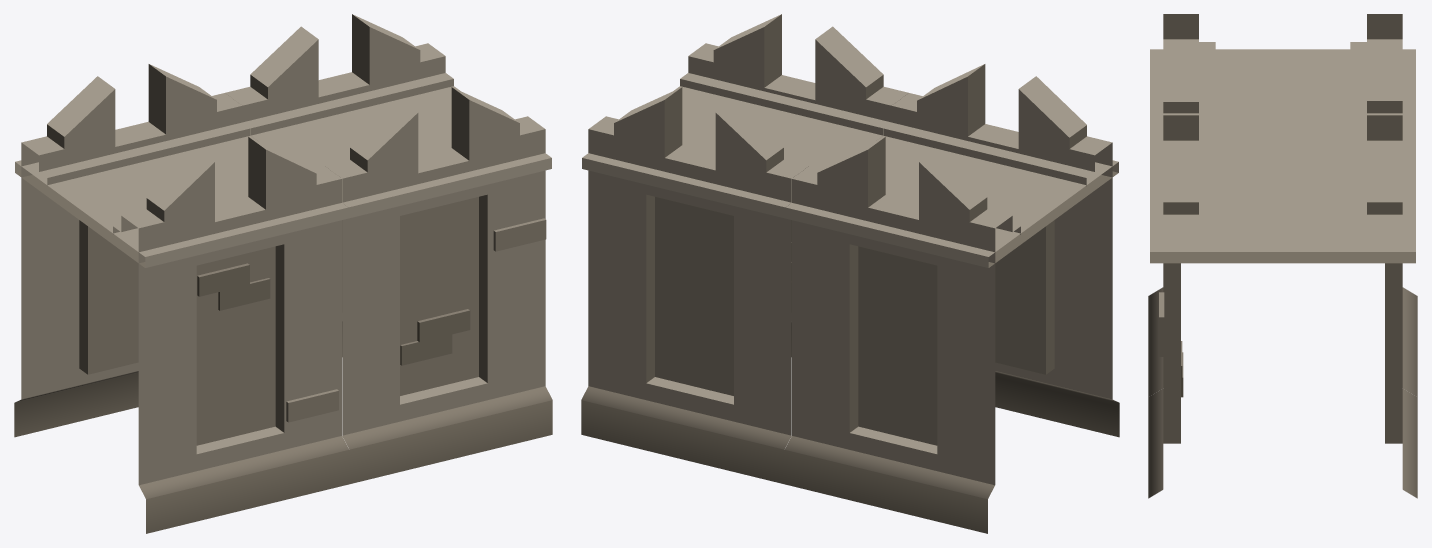
Rendered from MUR CAPITAL.fbx.
3 renders of one model, left to right at view 1: azimuth 30°, elevation 25°; view 2: azimuth 150°, elevation 25°; view 3: azimuth 270°, elevation 25°, orthographic. The views are drawn at different scales.
Visible parts, largest first — view 1: polySurface19; view 2: polySurface19; view 3: polySurface19.
Part boxes in pixels (x1,y1,x2,y2): polySurface19: (14, 14, 552, 533); polySurface19: (581, 14, 1119, 533); polySurface19: (1148, 14, 1417, 498).
Bounding box in the file's own units: 10 × 8.18 × 5.62.
